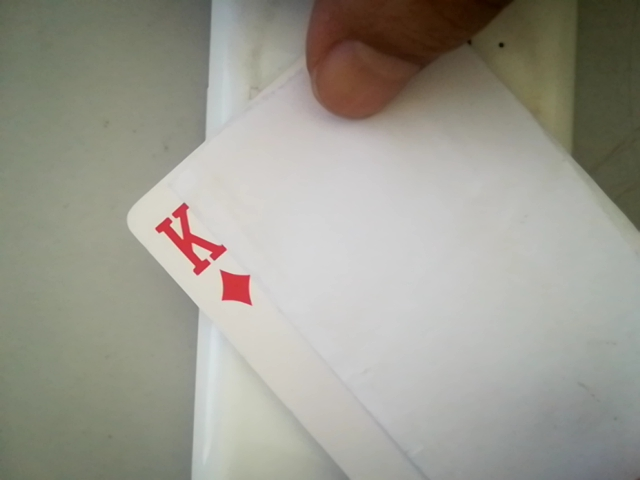fk k: (147, 201, 263, 310)
